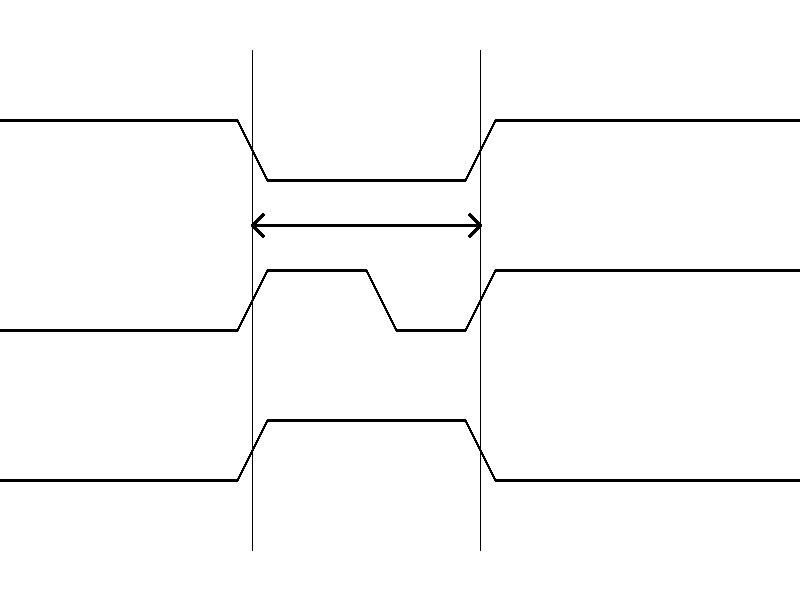double_arrow: (252, 210, 480, 240)
